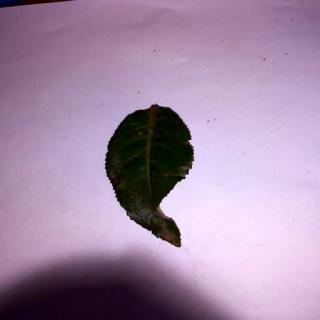Bird Eye Spot: (105, 105, 199, 250)
